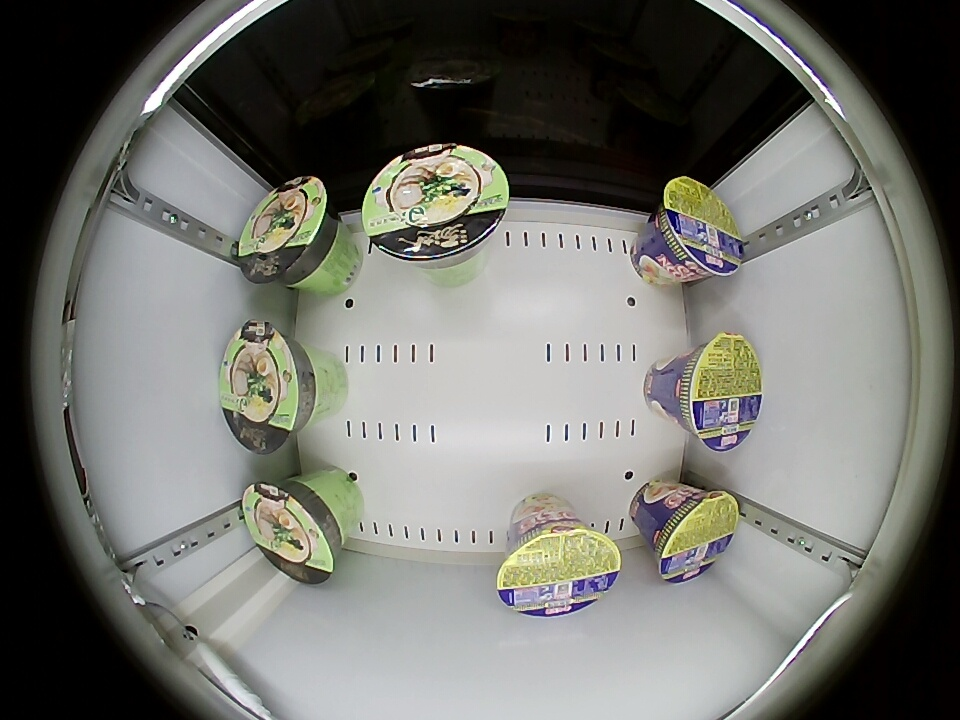heweidao: (496, 521, 622, 618), (672, 332, 763, 451), (653, 176, 746, 279), (653, 488, 740, 584)
tangdaren: (361, 144, 511, 271), (218, 320, 318, 454), (234, 175, 340, 288), (241, 476, 345, 585)
